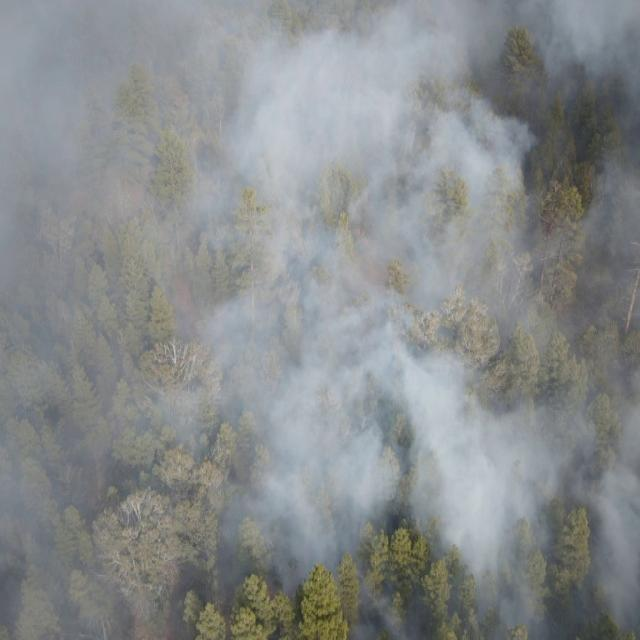smoke: (0, 0, 640, 564), (345, 565, 640, 640), (0, 562, 235, 640), (270, 564, 342, 590)
